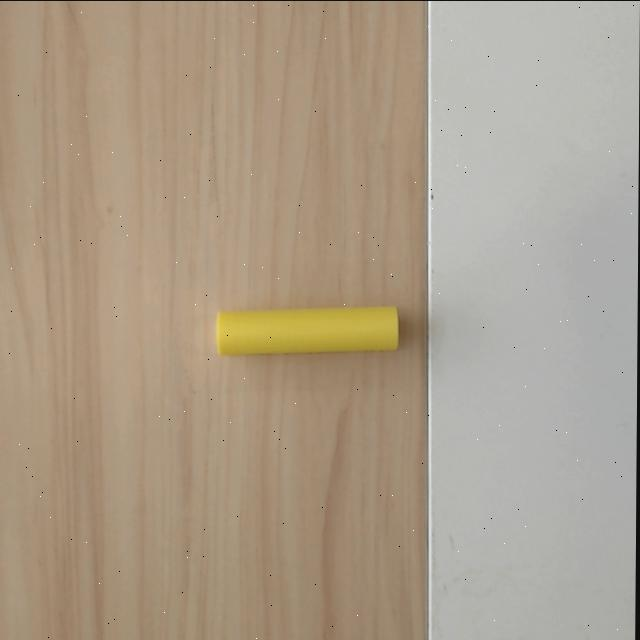Silinder-Kuning-10025: (217, 304, 400, 355)
